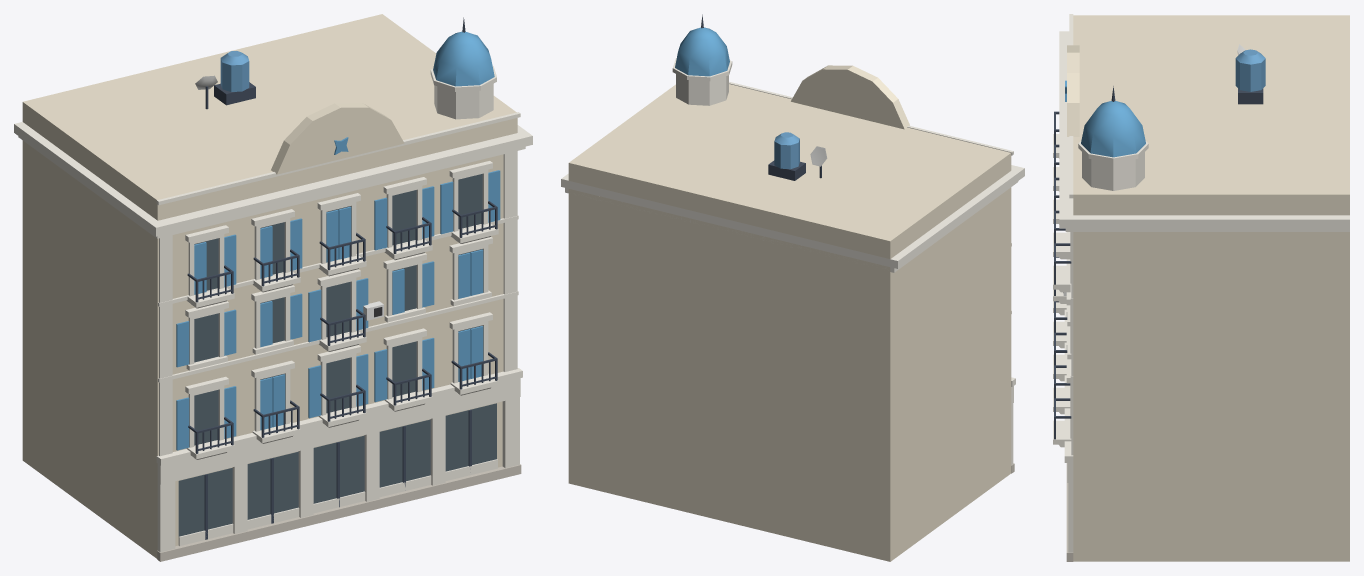
Rendered from bb_building_c.fbx.
The picture shows the model from 3 angles, left to right: view 1: azimuth 30°, elevation 25°; view 2: azimuth 150°, elevation 25°; view 3: azimuth 270°, elevation 25°; orthographic projection. The views are drawn at different scales.
Visible parts, largest first — view 1: bb_building_c; view 2: bb_building_c; view 3: bb_building_c.
Boxes of the visible parts, box(x1,y1,x2,y2) form: bb_building_c: box(14, 14, 532, 561); bb_building_c: box(561, 14, 1024, 561); bb_building_c: box(1053, 14, 1349, 561).
Size of the model in its own units: 17.7 by 20.15 by 11.8.
